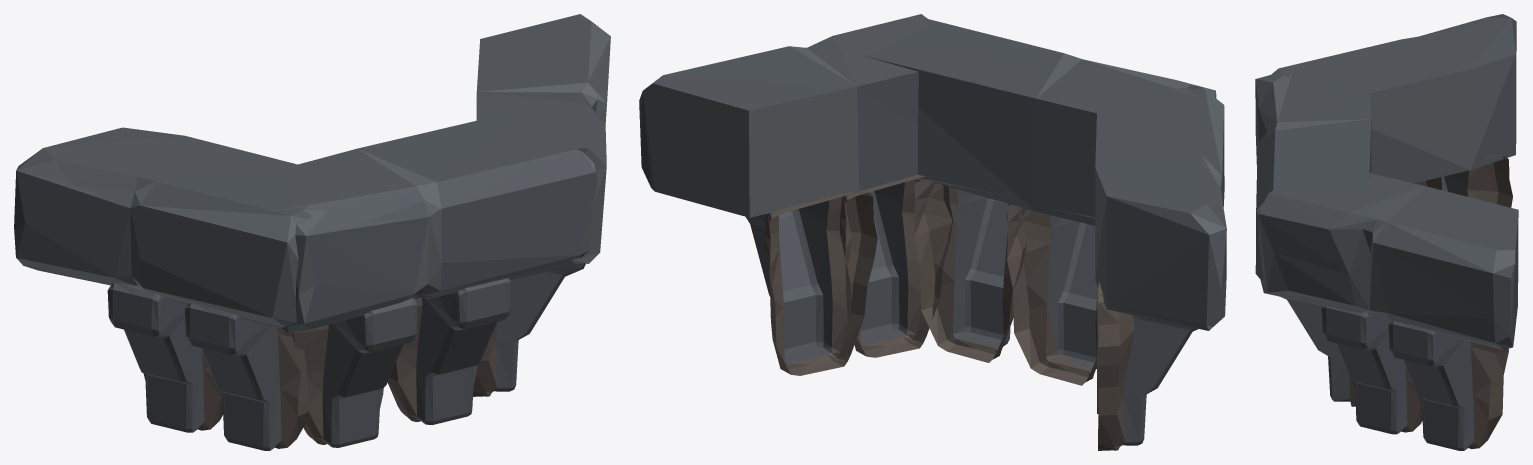
The model's file is MCastle_SmallTurret_05.FBX.
3 views of the same model, side by side, from view 1: azimuth 30°, elevation 25°; view 2: azimuth 150°, elevation 25°; view 3: azimuth 270°, elevation 25° (orthographic). The views are drawn at different scales.
Parts seen in each view (by area): view 1: MCastle_SmallTurret_05_LOD0; view 2: MCastle_SmallTurret_05_LOD0; view 3: MCastle_SmallTurret_05_LOD0.
Part boxes in pixels (x1=…): MCastle_SmallTurret_05_LOD0: x1=14, y1=14, x2=610, y2=450; MCastle_SmallTurret_05_LOD0: x1=639, y1=14, x2=1226, y2=450; MCastle_SmallTurret_05_LOD0: x1=1255, y1=14, x2=1518, y2=450.
Size of what is drawn, in the model's own units: 6.15 by 2.79 by 2.68.
